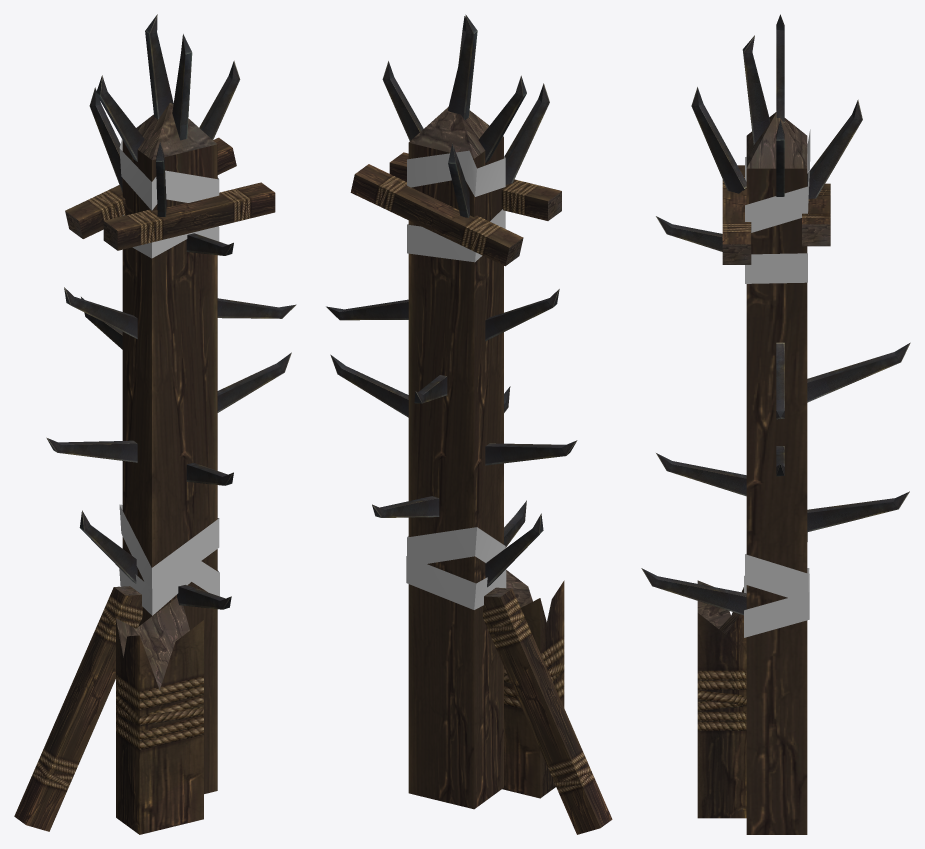
File: A_mutou_013.fbx
3 renders of one model, left to right at view 1: azimuth 30°, elevation 25°; view 2: azimuth 150°, elevation 25°; view 3: azimuth 270°, elevation 25°, orthographic. The views are drawn at different scales.
Parts seen in each view (by area): view 1: pasted__A_mutou_013; view 2: pasted__A_mutou_013; view 3: pasted__A_mutou_013.
Part boxes in pixels (<box>): pasted__A_mutou_013: <box>14,14,296,834</box>; pasted__A_mutou_013: <box>326,14,612,834</box>; pasted__A_mutou_013: <box>641,14,910,834</box>.
Bounding box in the file's own units: 205 × 553 × 167.
